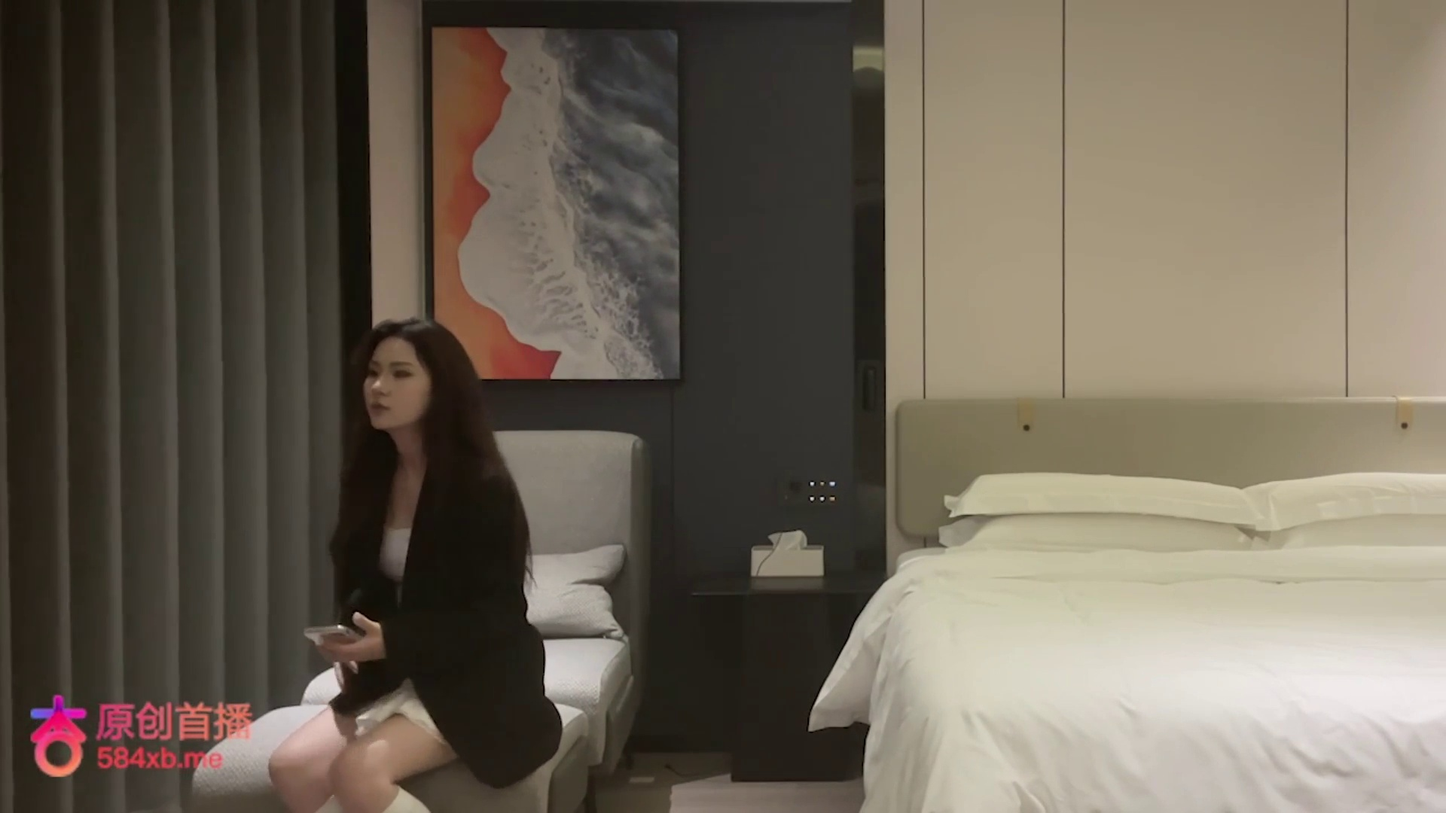sit: (268, 315, 563, 810)
